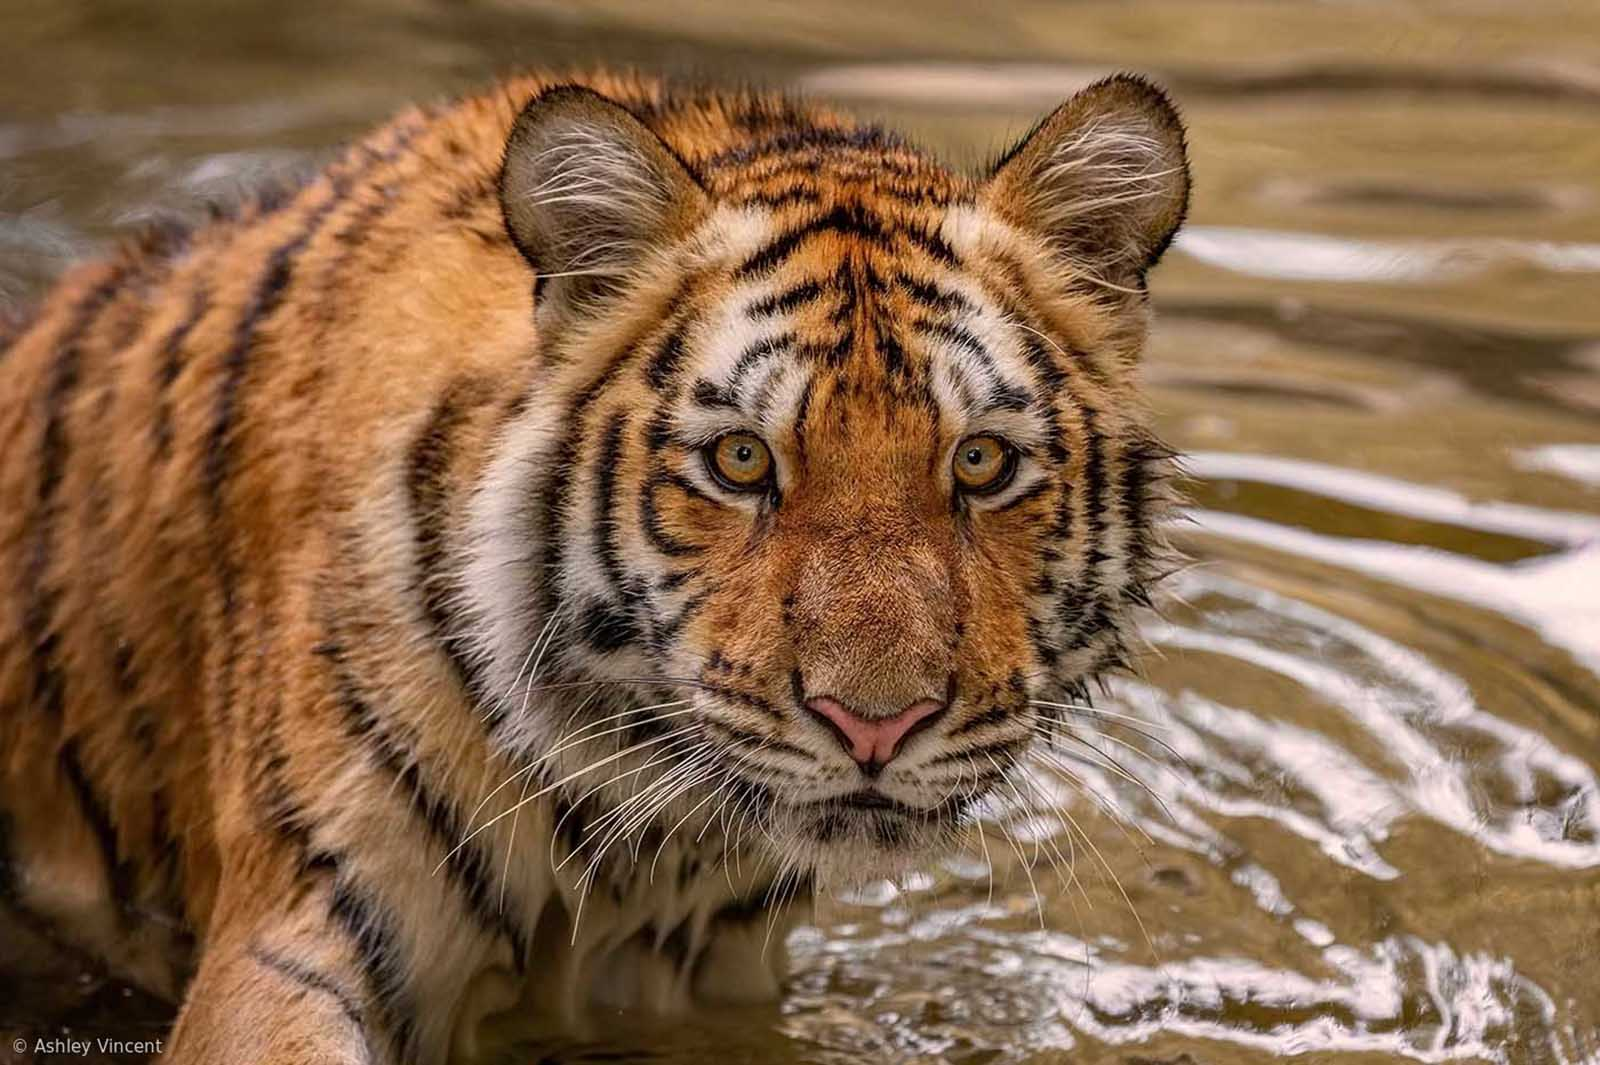tiger: (36, 17, 1217, 1048)
